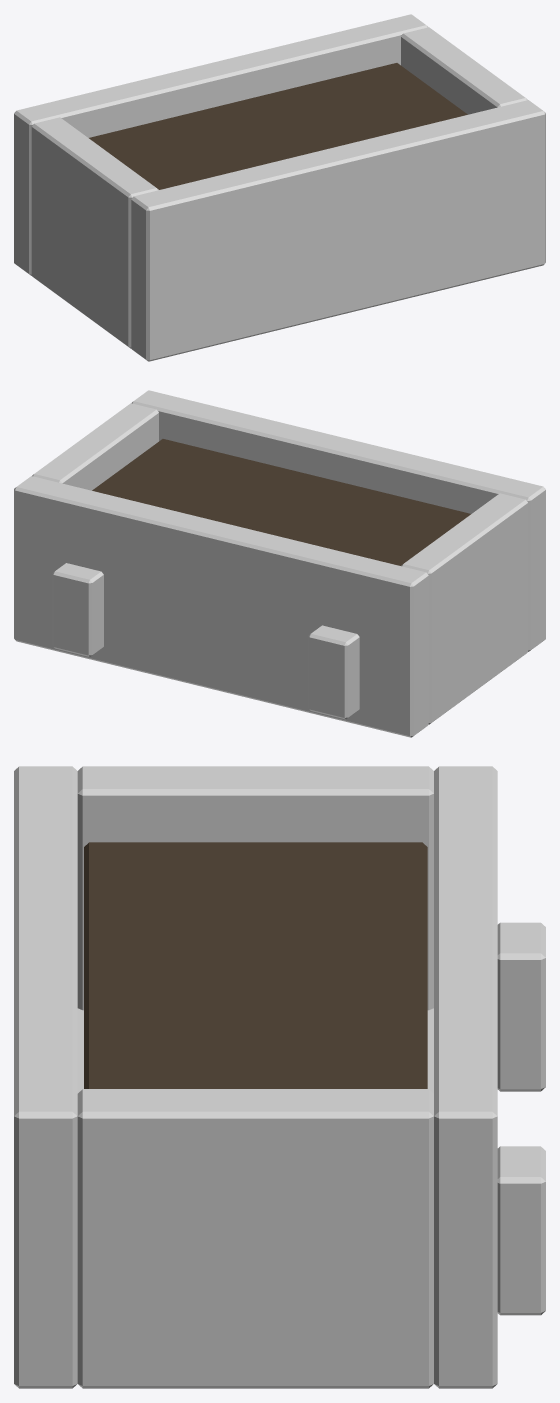
The model's file is CM_BotanicalPlanterKit01_HerbTray.fbx.
3 renders of one model, top to bottom at view 1: azimuth 30°, elevation 25°; view 2: azimuth 150°, elevation 25°; view 3: azimuth 270°, elevation 25°, orthographic. The views are drawn at different scales.
Visible parts, largest first — view 1: CM_BotanicalPlanterKit01_HerbTray_Timber, CM_BotanicalPlanterKit01_HerbTray_Soil.001; view 2: CM_BotanicalPlanterKit01_HerbTray_Timber, CM_BotanicalPlanterKit01_HerbTray_Soil.001; view 3: CM_BotanicalPlanterKit01_HerbTray_Timber, CM_BotanicalPlanterKit01_HerbTray_Soil.001.
Boxes of the visible parts, x1=… form: CM_BotanicalPlanterKit01_HerbTray_Timber: x1=14, y1=14, x2=545, y2=361; CM_BotanicalPlanterKit01_HerbTray_Soil.001: x1=89, y1=63, x2=467, y2=189; CM_BotanicalPlanterKit01_HerbTray_Timber: x1=14, y1=390, x2=545, y2=737; CM_BotanicalPlanterKit01_HerbTray_Soil.001: x1=92, y1=439, x2=470, y2=565; CM_BotanicalPlanterKit01_HerbTray_Timber: x1=14, y1=766, x2=545, y2=1388; CM_BotanicalPlanterKit01_HerbTray_Soil.001: x1=84, y1=842, x2=427, y2=1088.
Bounding box in the file's own units: 0.65 × 0.24 × 0.418.
